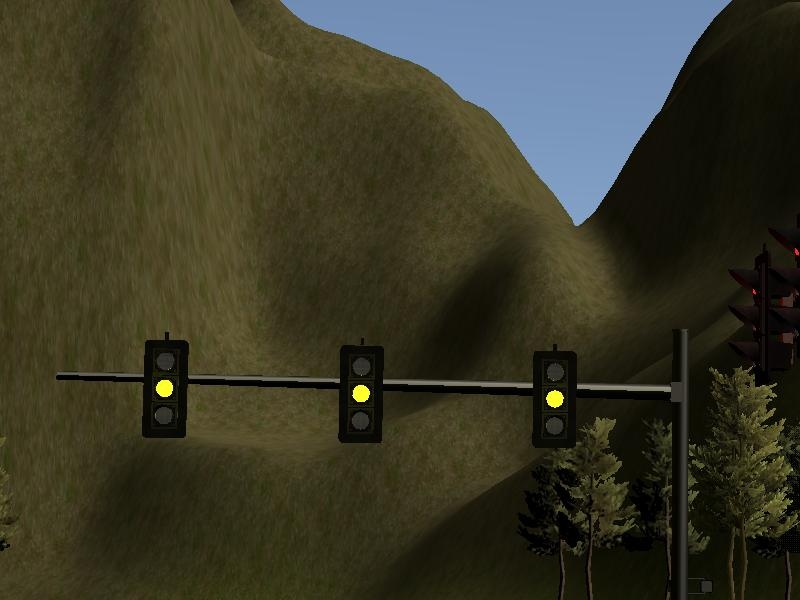YELLOW: (140, 338, 187, 437), (337, 342, 384, 441), (530, 349, 577, 448)
